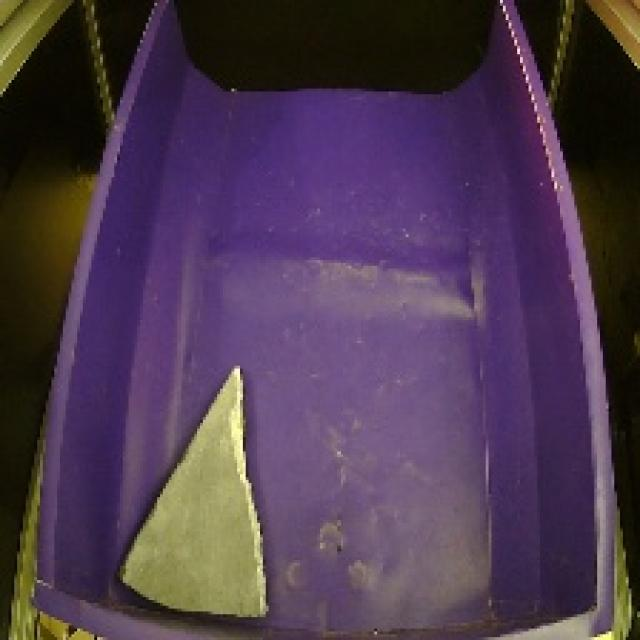china: (102, 354, 278, 633)
